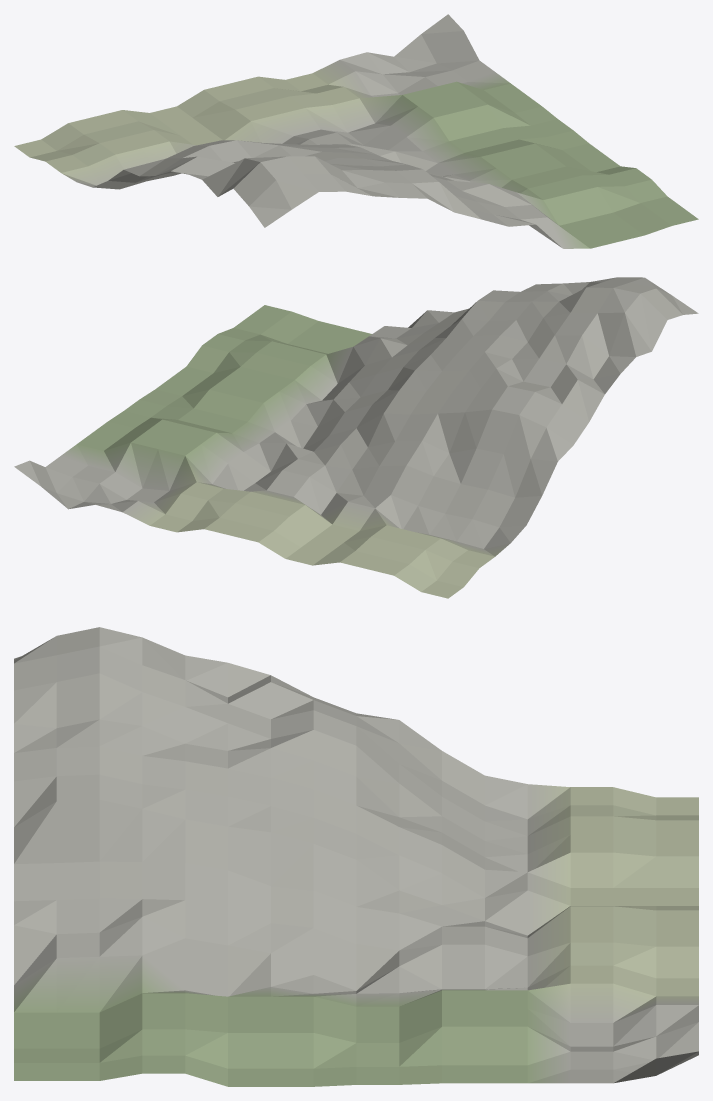
The picture shows the model from 3 angles, top to bottom: view 1: azimuth 30°, elevation 25°; view 2: azimuth 150°, elevation 25°; view 3: azimuth 270°, elevation 25°; orthographic projection. The views are drawn at different scales.
Bounding box in the file's own units: 32 × 10.43 × 32.
